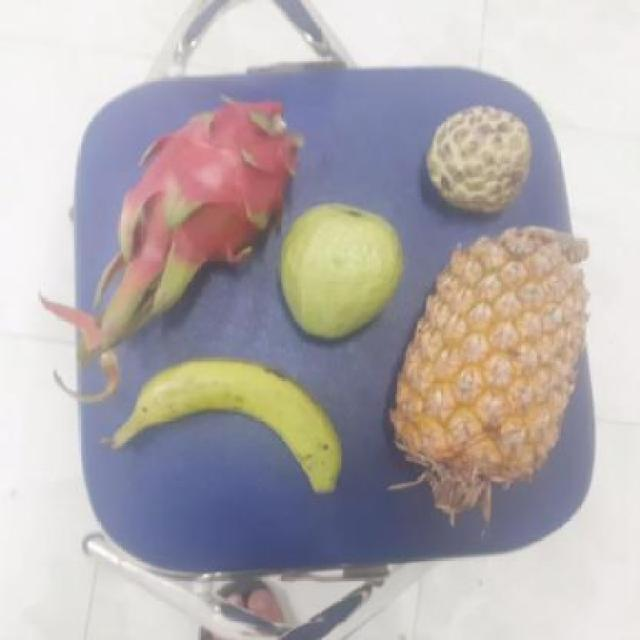banana: (109, 359, 336, 486)
dragon fruit: (123, 99, 294, 276)
guava: (271, 204, 404, 339)
pineapple: (391, 226, 584, 485)
sugar apple: (423, 108, 532, 210)
